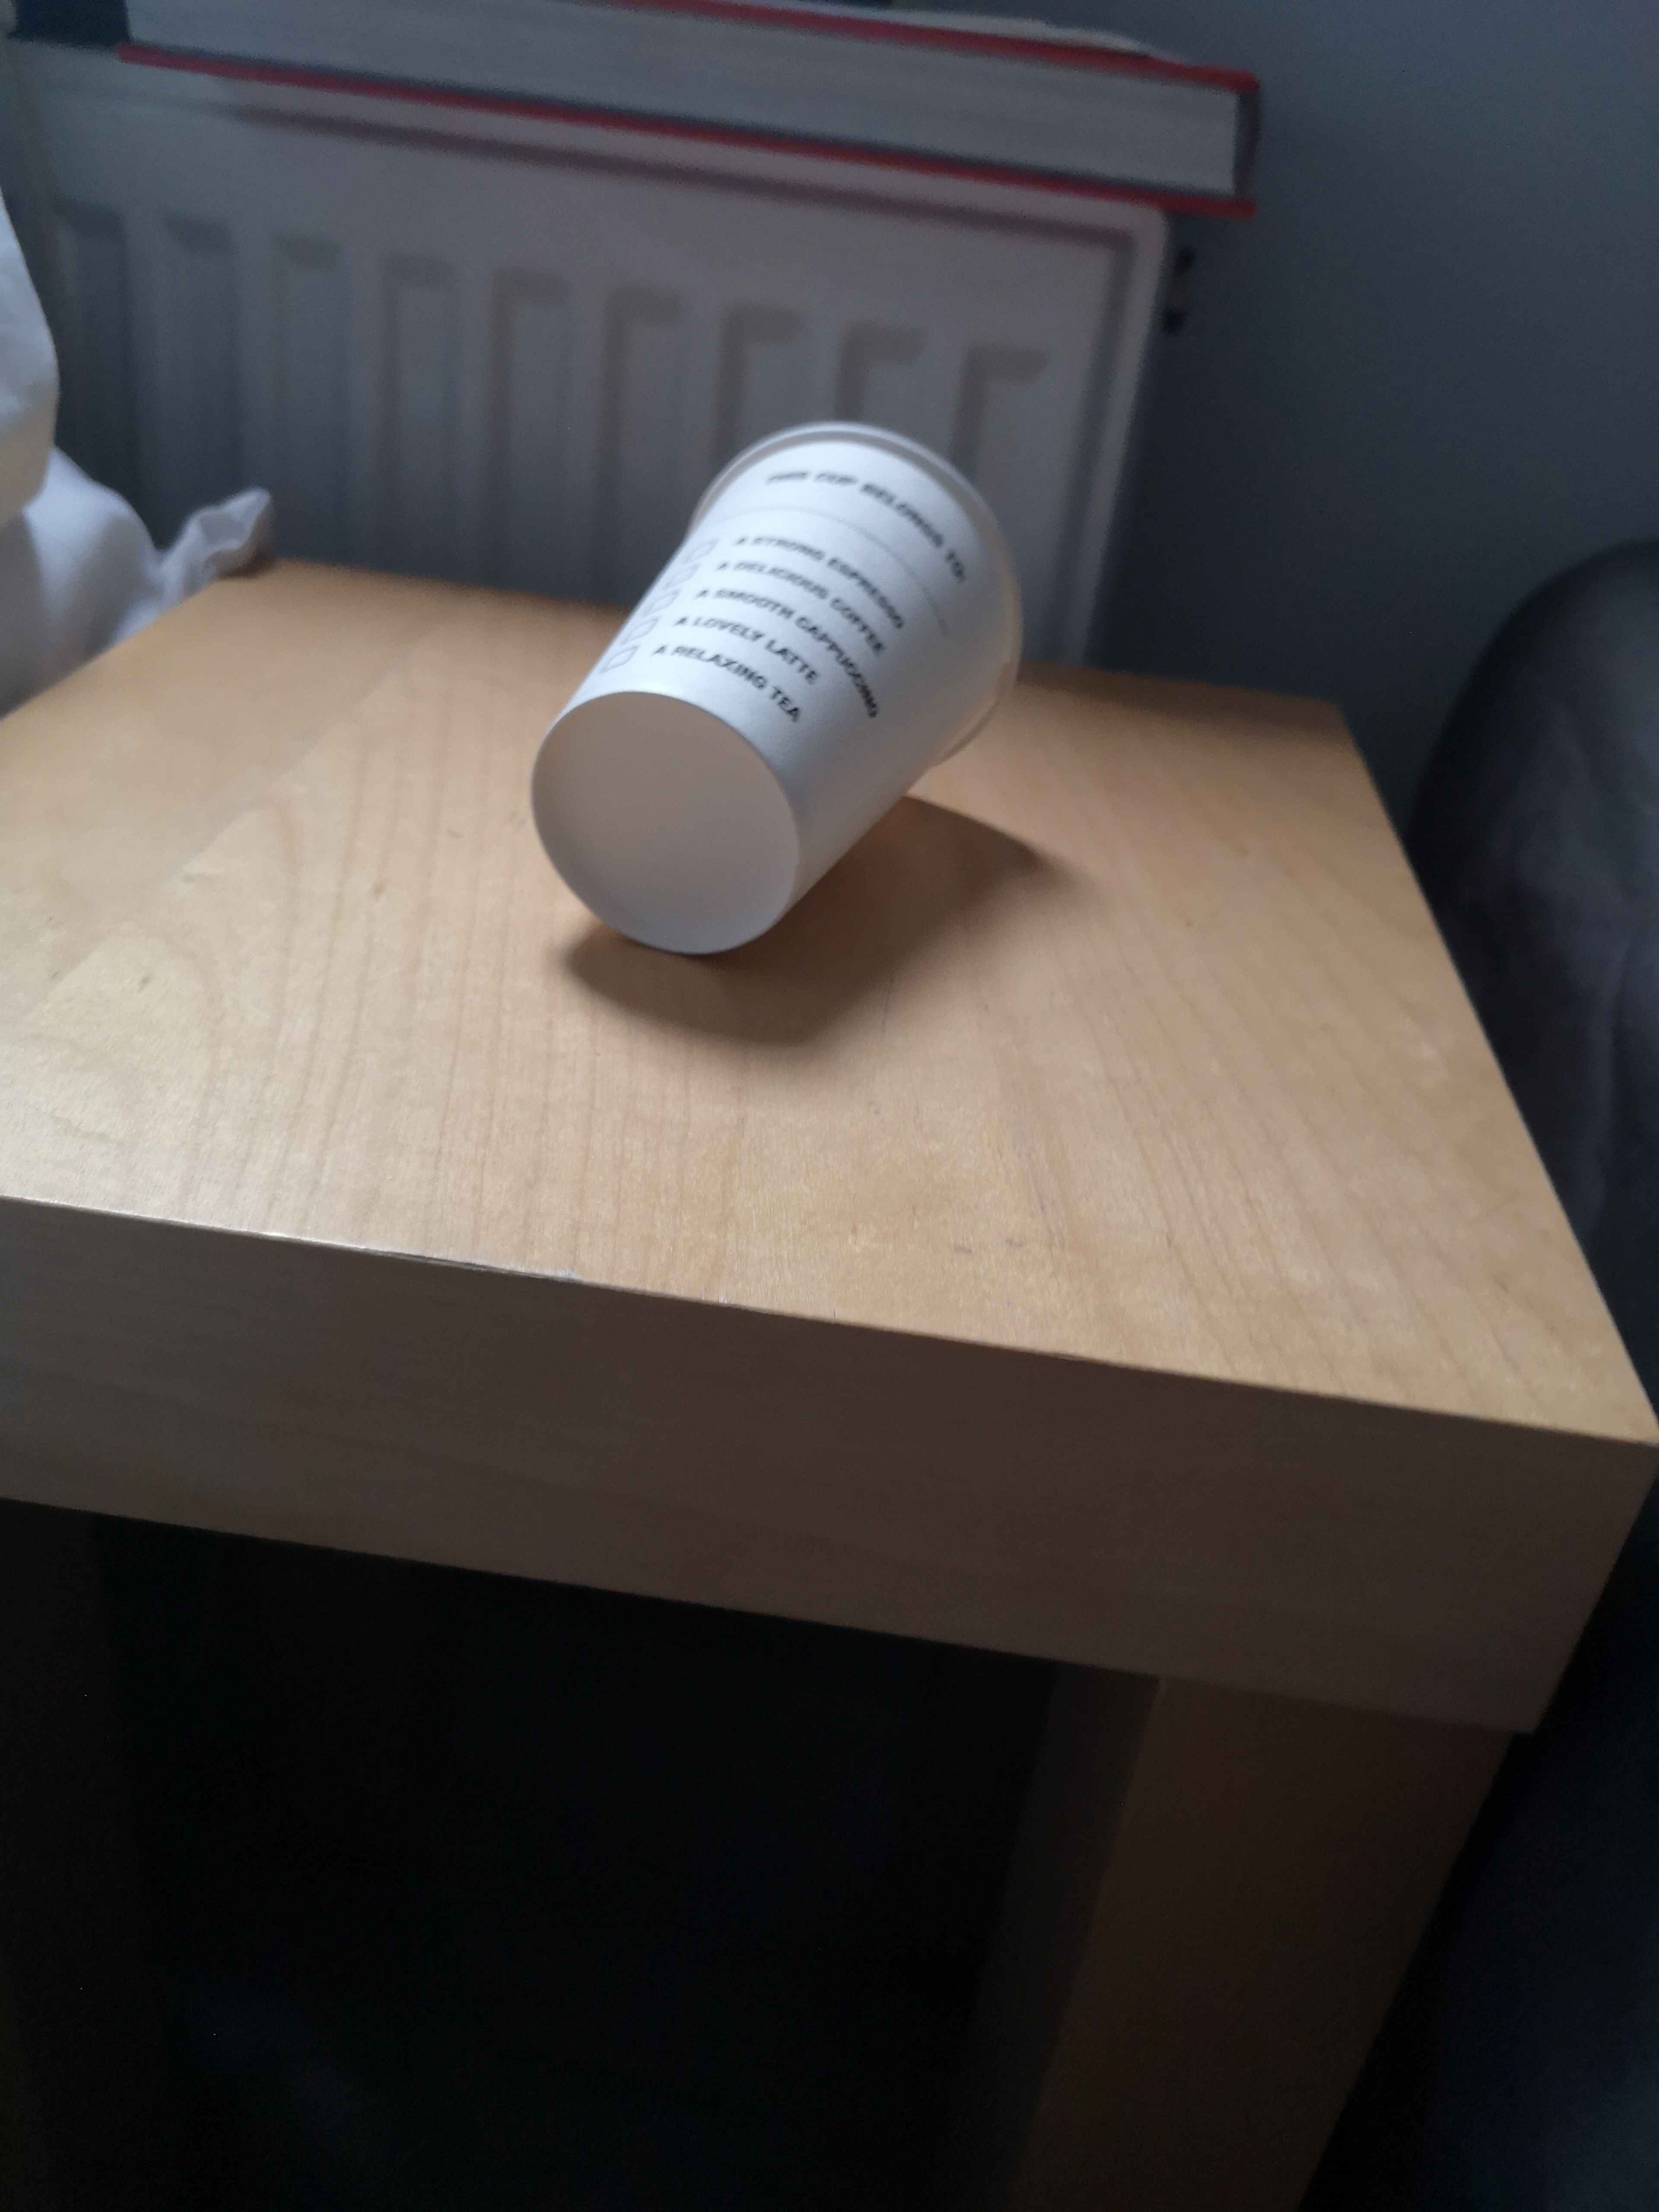cup: (486, 402, 1066, 1005)
